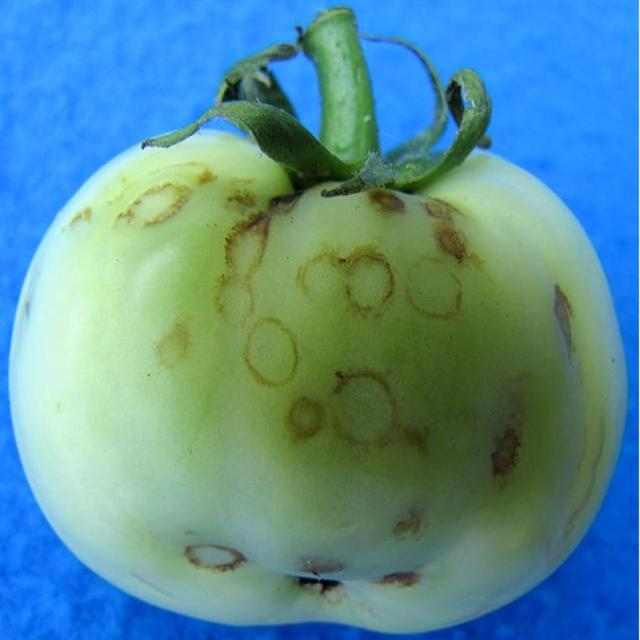Spotted wilt Virus Fruit: (47, 41, 85, 185)
